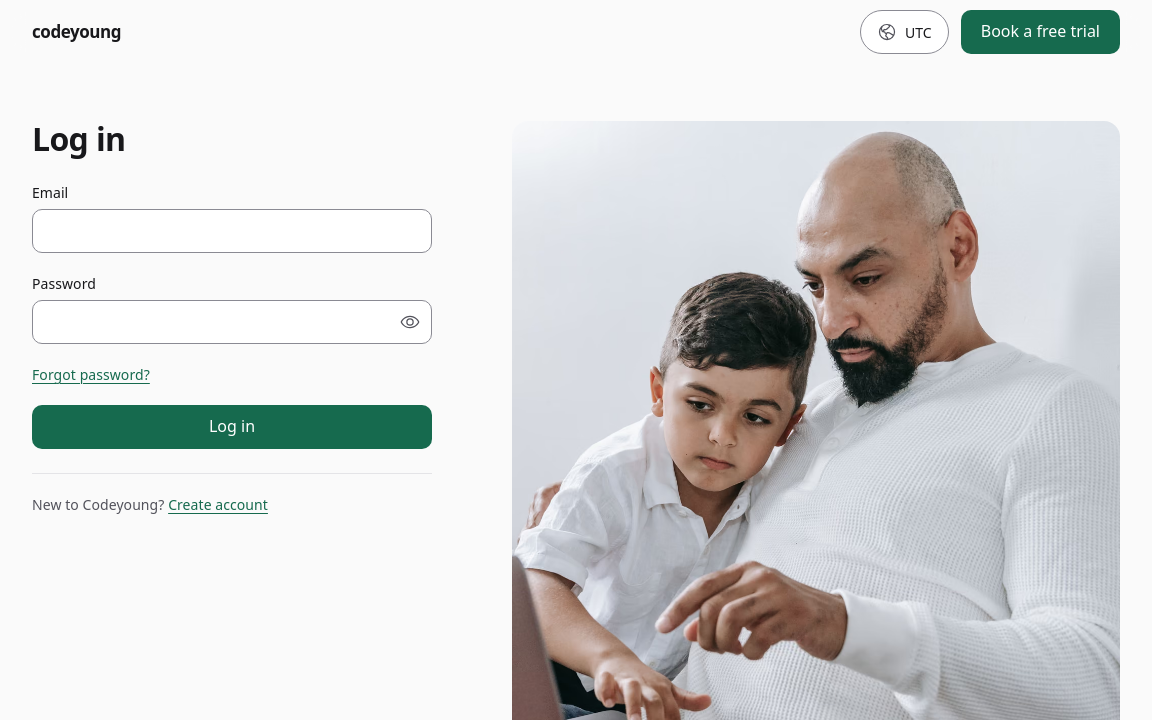
log in › shows the credentials error without revealing which part was wrong
Expected: the heading "Log in" is shown, [32,117,125,160]
Type "hannah@okafor.co.uk" into the field labelled "Email" at x=232, y=231, box [32,209,432,253]
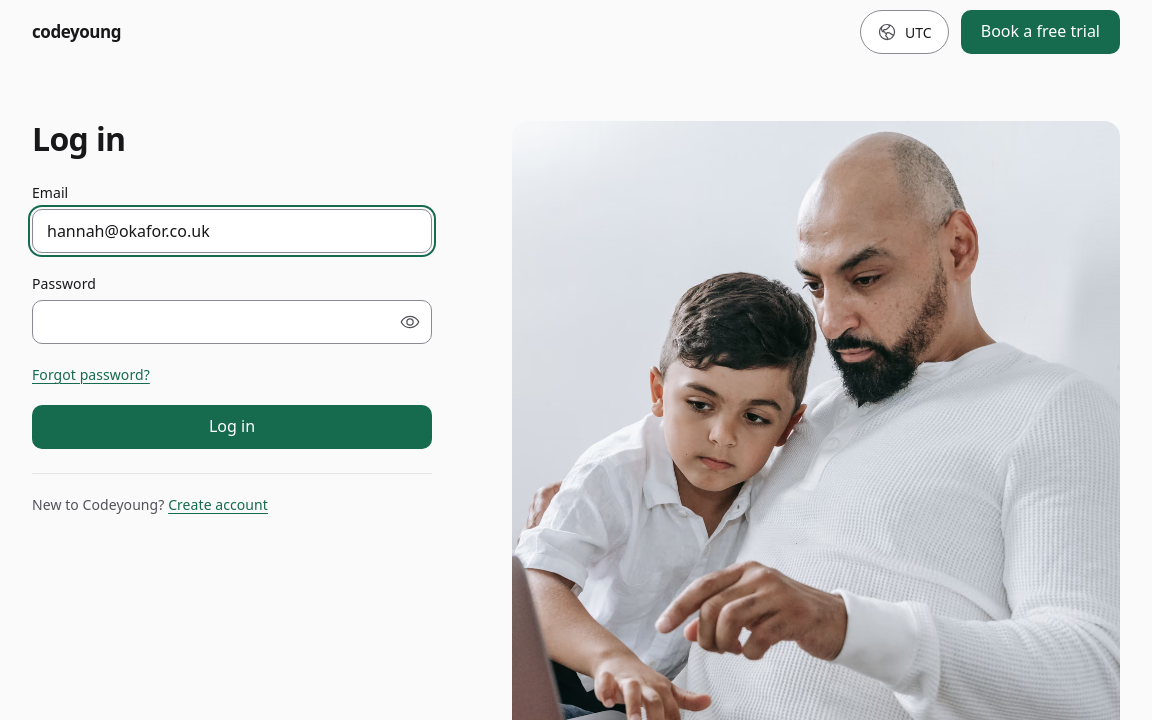
Type "wrong-password" into the password field labelled "Password" at x=232, y=322, box [32,300,432,344]
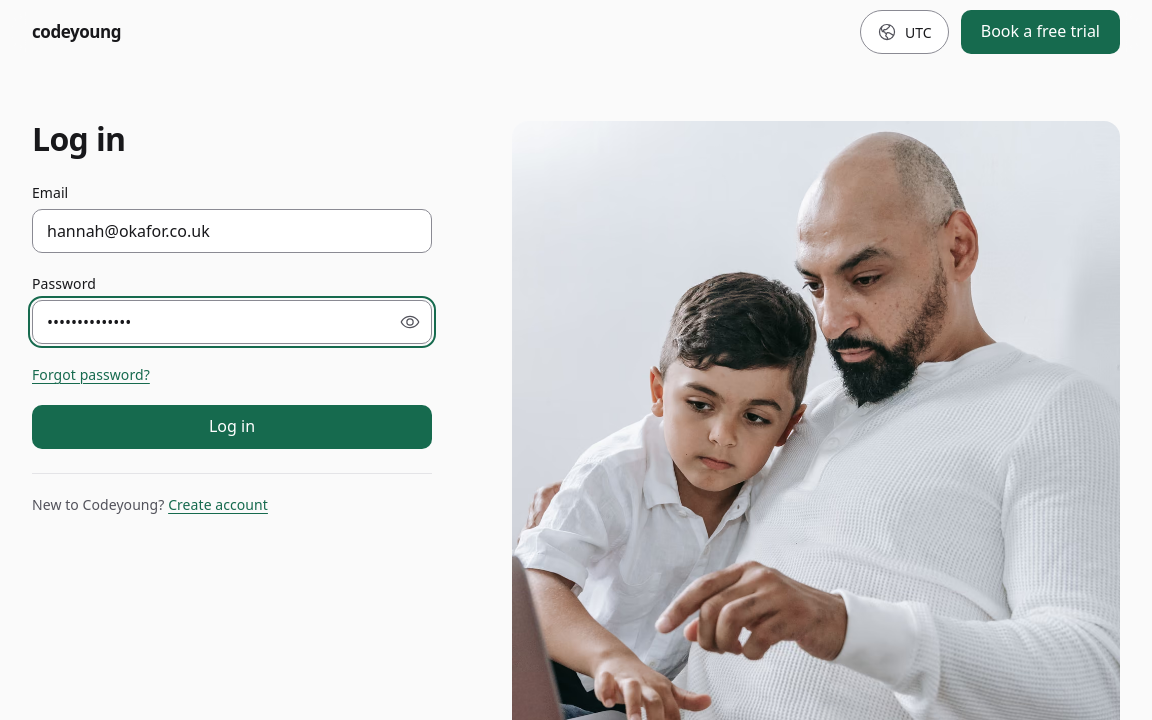
Click the button "Log in" at x=232, y=427, box [32,405,432,449]
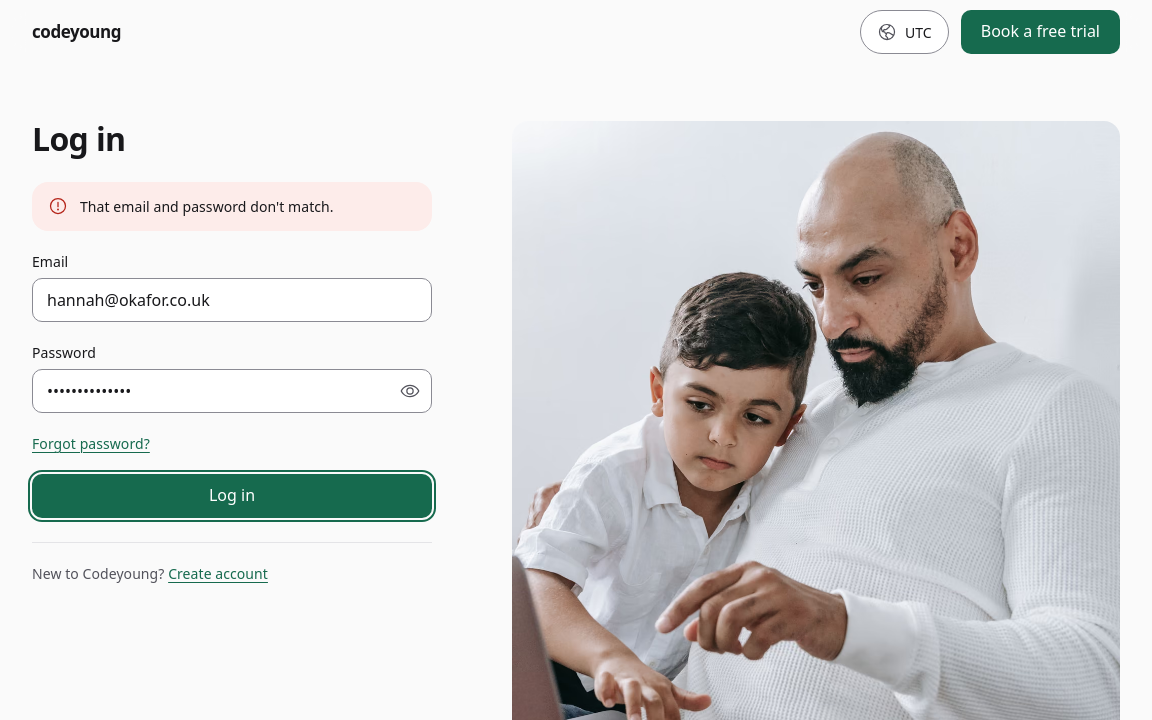
Result: the message reads "That email and password don't match." at [80,197,334,216]
